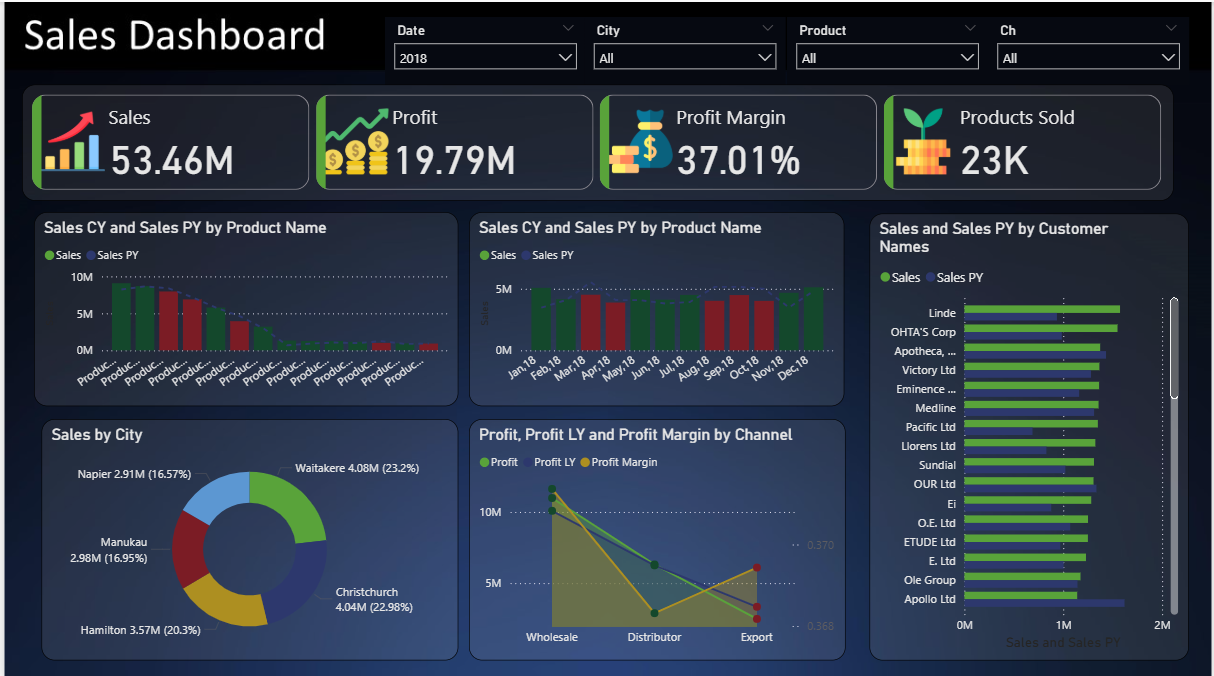

The dashboard page shown, as its layout file describes it:
{"tool":"powerbi","page":{"name":"Page 1","canvas":[1280,720],"ordinal":0},"visuals":[{"type":"slicer","fields":{"Values":["DateTable.Year","DateTable.Month Short Name Plus Year"]},"box":[404,15.9,213.5,72.1],"z":0},{"type":"slicer","fields":{"Values":["Regions_Table.City"]},"box":[616.1,15.9,213.5,72.1],"z":1000},{"type":"slicer","fields":{"Values":["Products_Data.Product Name"]},"box":[829.6,15.9,213.5,72.1],"z":2000},{"type":"slicer","fields":{"Values":["Sales_Data.Channel"]},"box":[1043.1,15.9,213.5,72.1],"z":3000},{"type":"lineClusteredColumnComboChart","title":"Sales CY and Sales PY by Product Name","fields":{"Category":["Products_Data.Product Name"],"Y":["Measure Table.Sales"],"Y2":["Measure Table.Sales PY"]},"box":[32,222.7,450,206.1],"z":4000},{"type":"lineClusteredColumnComboChart","title":"Sales CY and Sales PY by Product Name","fields":{"Y":["Measure Table.Sales"],"Y2":["Measure Table.Sales PY"],"Category":["DateTable.Month Short Name Plus Year"]},"box":[493.9,222.7,397.9,206.1],"z":5000},{"type":"donutChart","fields":{"Y":["Measure Table.Sales"],"Category":["Regions_Table.City"]},"box":[40.3,441.7,441.7,255.8],"z":6000},{"type":"areaChart","fields":{"Category":["Sales_Data.Channel"],"Y":["Measure Table.Profit","Measure Table.Profit LY"],"Y2":["Measure Table.Profit Margin"]},"box":[492.7,441.7,399.1,255.8],"z":7000},{"type":"clusteredBarChart","fields":{"Y":["Measure Table.Sales","Measure Table.Sales PY"],"Category":["Customer_Data.Customer Names"]},"box":[917.8,223.8,338.7,473.7],"z":8000},{"type":"cardVisual","fields":{"Data":["Measure Table.Sales","Measure Table.Profit","Measure Table.Profit Margin","Measure Table.Products Sold"]},"box":[18.9,87.6,1221,123.2],"z":9000}]}

Visuals, with their boxes in screenshot pixels (x1, y1, x2, y2), scaled from the page's 1280x720 canvas onto the 1214x676 screenshot:
slicer - DateTable.Year x DateTable.Month Short Name Plus Year: bbox=(383, 15, 586, 83)
slicer - Regions_Table.City: bbox=(584, 15, 787, 83)
slicer - Products_Data.Product Name: bbox=(787, 15, 989, 83)
slicer - Sales_Data.Channel: bbox=(989, 15, 1192, 83)
"Sales CY and Sales PY by Product Name" lineClusteredColumnComboChart: bbox=(30, 209, 457, 403)
"Sales CY and Sales PY by Product Name" lineClusteredColumnComboChart: bbox=(468, 209, 846, 403)
donutChart - Measure Table.Sales x Regions_Table.City: bbox=(38, 415, 457, 655)
areaChart - Sales_Data.Channel x Measure Table.Profit: bbox=(467, 415, 846, 655)
clusteredBarChart - Measure Table.Sales x Measure Table.Sales PY: bbox=(870, 210, 1192, 655)
cardVisual - Measure Table.Sales x Measure Table.Profit: bbox=(18, 82, 1176, 198)
